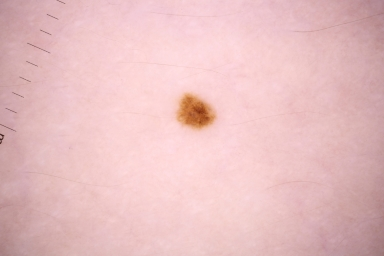nevus: (178, 95, 214, 127)
